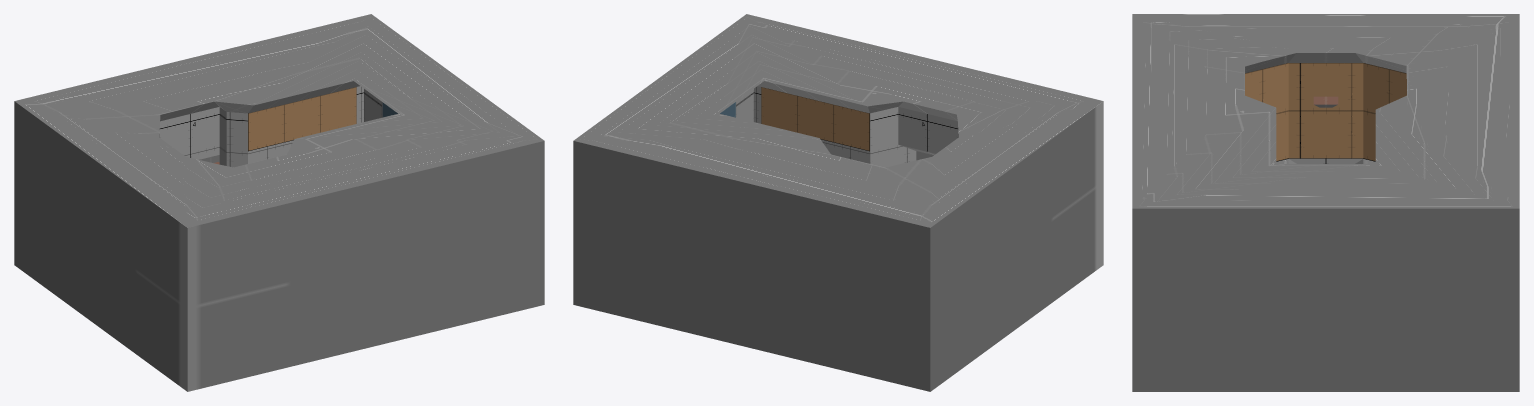
3 renders of one model, left to right at view 1: azimuth 30°, elevation 25°; view 2: azimuth 150°, elevation 25°; view 3: azimuth 270°, elevation 25°, orthographic. The views are drawn at different scales.
Visible parts, largest first — view 1: Main; view 2: Main; view 3: Main.
Boxes of the visible parts, x1,y1,x2,y2 form: Main: [14, 14, 544, 391]; Main: [573, 14, 1103, 391]; Main: [1132, 14, 1519, 391].
Bounding box in the file's own units: 73.97 × 32.47 × 62.16.
5 materials, 5 textured.
